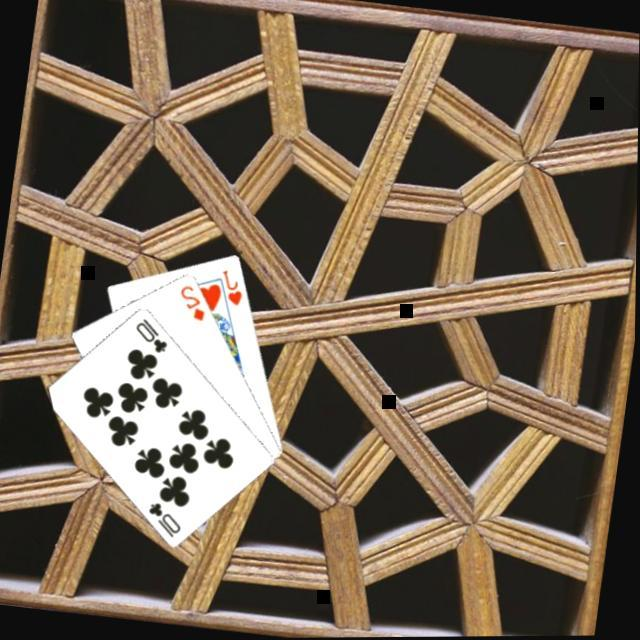10C: (144, 494, 190, 540), (130, 312, 176, 354)
2D: (174, 279, 214, 323)
JH: (217, 264, 250, 306)
